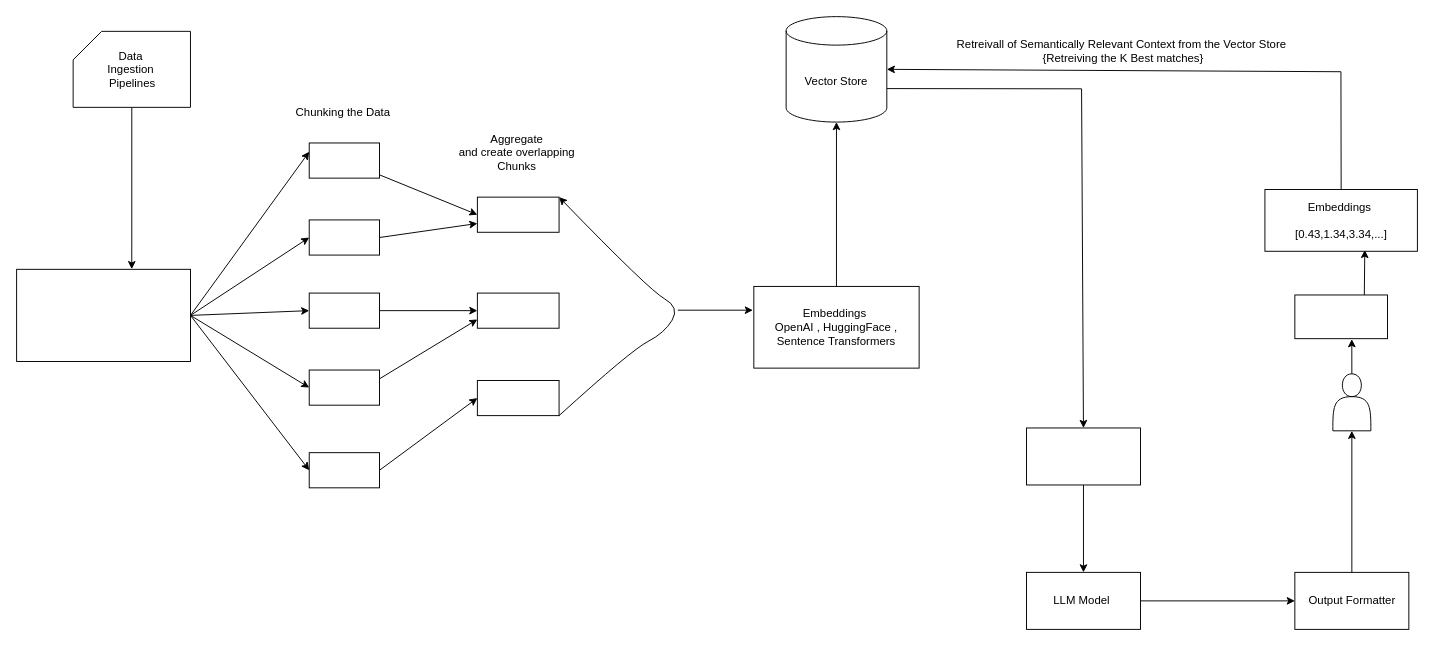
The diagram is 1435 pixels wide and 646 high, and some of its shapes have lost their labels. The shapes that lost their labels are listed below. From the top down, each one's box as (x1, y1, x2, y2) in pixels, then its label:
(16, 268, 190, 361): Input /Context Data
(1294, 294, 1387, 339): Query
(1026, 427, 1140, 485): Prompt + Context
